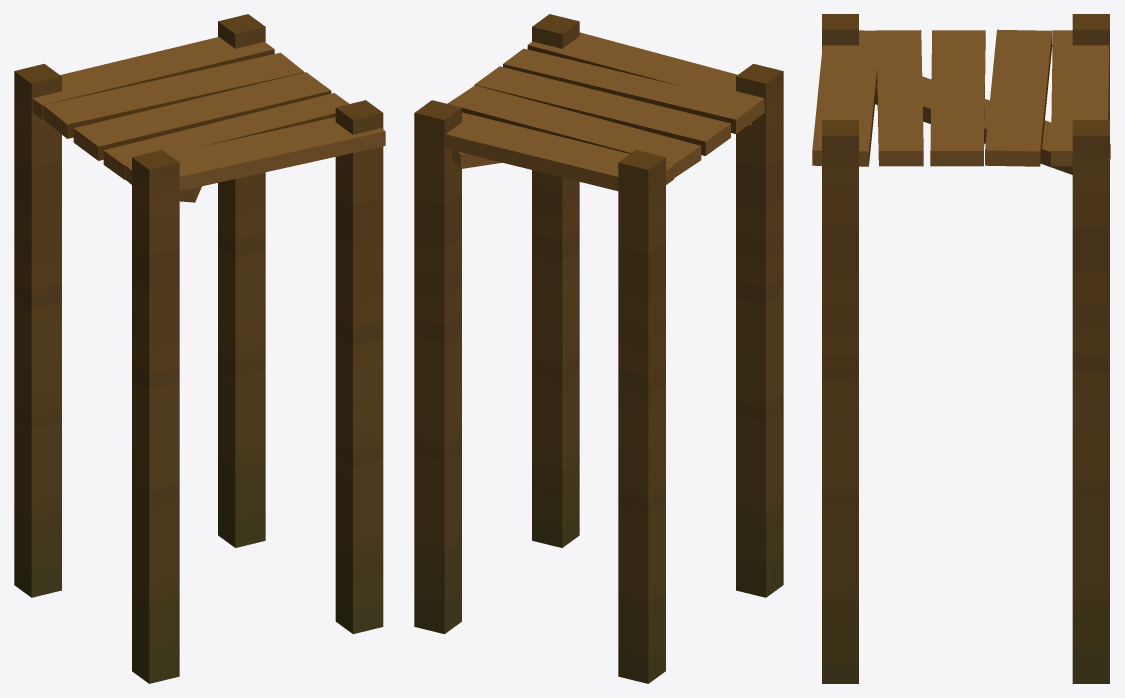
The model's file is Dock.fbx.
3 views of the same model, side by side, from view 1: azimuth 30°, elevation 25°; view 2: azimuth 150°, elevation 25°; view 3: azimuth 270°, elevation 25° (orthographic). The views are drawn at different scales.
Visible parts, largest first — view 1: Dock; view 2: Dock; view 3: Dock.
Part boxes in pixels (x1,y1,x2,y2): Dock: (14,14,385,683); Dock: (414,14,783,683); Dock: (812,14,1110,683).
Bounding box in the file's own units: 344 × 722 × 356.
